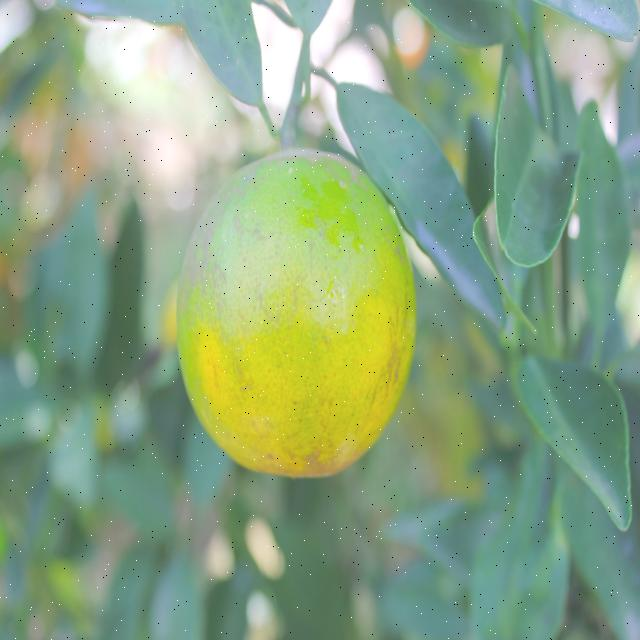healthy: (494, 90, 564, 270), (177, 0, 267, 108)
